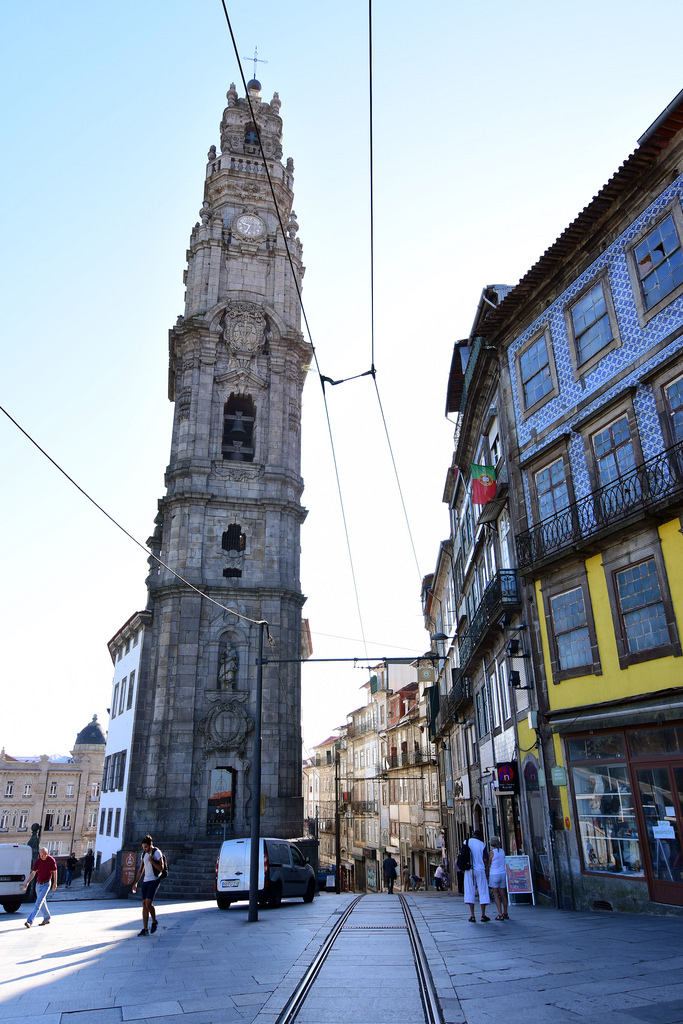clerigos: (124, 45, 313, 838)
